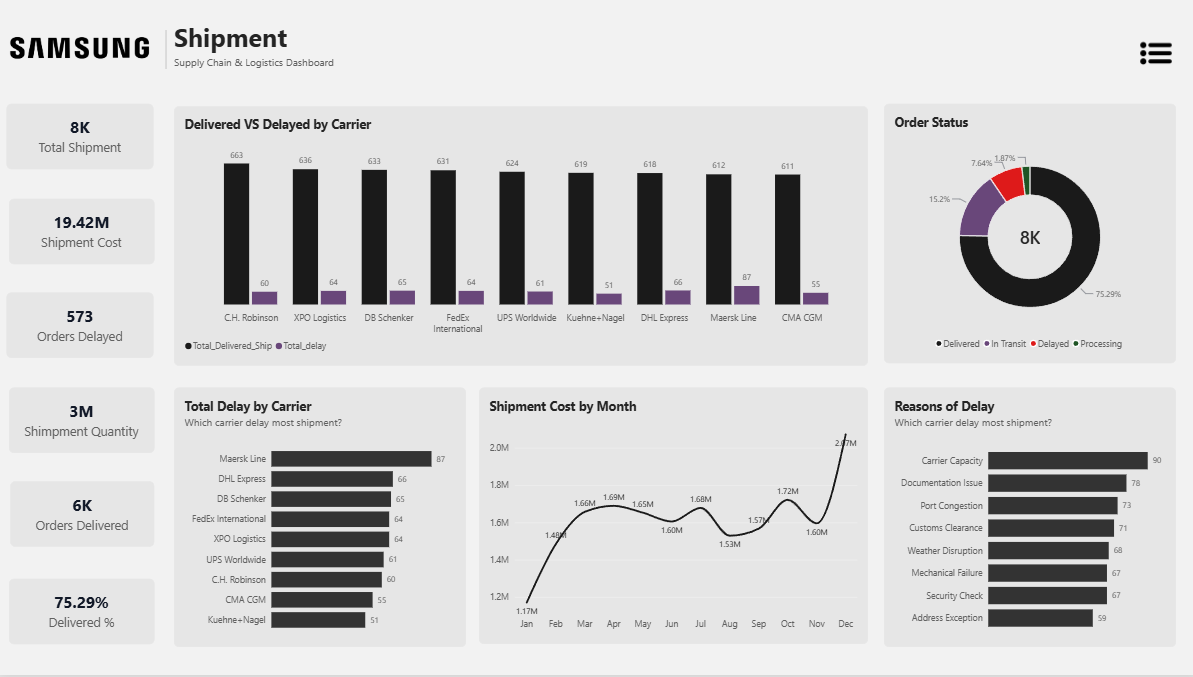

The page's visual inventory and layout, read from the dashboard file:
{"tool":"powerbi","page":{"name":"Shipment","canvas":[1920,1080],"ordinal":4},"visuals":[{"type":"image","box":[0,15,247.5,120],"z":0},{"type":"shape","title":"Shipment","box":[280,32.5,398,344],"z":1000},{"type":"shape","box":[55,47.5,422.5,62.5],"z":2000},{"type":"cardVisual","fields":{"Data":["Measures_table.Shipment Cost"]},"box":[15,317.5,232.5,105],"z":3000},{"type":"cardVisual","fields":{"Data":["Measures_table.Delivered %"]},"box":[15,925,232.5,105],"z":4000},{"type":"cardVisual","fields":{"Data":["Measures_table.Total_Delivered_Ship"]},"box":[17.5,770,230,105],"z":5000},{"type":"cardVisual","fields":{"Data":["Measures_table.Total_Shimpment_Quantity"]},"box":[15,620,232.5,105],"z":6000},{"type":"cardVisual","fields":{"Data":["Measures_table.Total_delay"]},"box":[12.5,467.5,235,105],"z":7000},{"type":"cardVisual","fields":{"Data":["Measures_table.Total_shipment"]},"box":[12.5,165,235,105],"z":8000},{"type":"clusteredBarChart","title":"Total Delay by Carrier","fields":{"Category":["fact_shipment.carrier"],"Y":["Measures_table.Total_delay"]},"box":[280,620,467.5,415],"z":9000},{"type":"clusteredColumnChart","title":"Delivered VS Delayed by Carrier","fields":{"Category":["fact_shipment.carrier"],"Y":["Measures_table.Total_Delivered_Ship","Measures_table.Total_delay"]},"box":[280,170,1110,415],"z":10000},{"type":"lineChart","title":"Shipment Cost by Month","fields":{"Y":["Measures_table.Shipment Cost"],"Category":["dim_date.Month_short"]},"box":[767.5,620,622.5,410],"z":11000},{"type":"clusteredBarChart","title":"Reasons of Delay","fields":{"Category":["fact_shipment.delay_reason"],"Y":["Measures_table.Total_delay"]},"box":[1415,620,467.5,415],"z":12000},{"type":"donutChart","title":"Order Status","fields":{"Category":["fact_shipment.status"],"Y":["Measures_table.Total_shipment"]},"box":[1415,165,467.5,415],"z":13000},{"type":"image","box":[1818,60,66,50],"z":13001}]}

Visuals, with their boxes in screenshot pixels (x1, y1, x2, y2), scaled from the page's 1920x1080 canvas onto the 1193x677 screenshot:
image: locate(0, 9, 154, 85)
"Shipment" shape: locate(174, 20, 421, 236)
shape: locate(34, 30, 297, 69)
cardVisual - Measures_table.Shipment Cost: locate(9, 199, 154, 265)
cardVisual - Measures_table.Delivered %: locate(9, 580, 154, 646)
cardVisual - Measures_table.Total_Delivered_Ship: locate(11, 483, 154, 548)
cardVisual - Measures_table.Total_Shimpment_Quantity: locate(9, 389, 154, 454)
cardVisual - Measures_table.Total_delay: locate(8, 293, 154, 359)
cardVisual - Measures_table.Total_shipment: locate(8, 103, 154, 169)
"Total Delay by Carrier" clusteredBarChart: locate(174, 389, 464, 649)
"Delivered VS Delayed by Carrier" clusteredColumnChart: locate(174, 107, 864, 367)
"Shipment Cost by Month" lineChart: locate(477, 389, 864, 646)
"Reasons of Delay" clusteredBarChart: locate(879, 389, 1170, 649)
"Order Status" donutChart: locate(879, 103, 1170, 364)
image: locate(1130, 38, 1171, 69)
